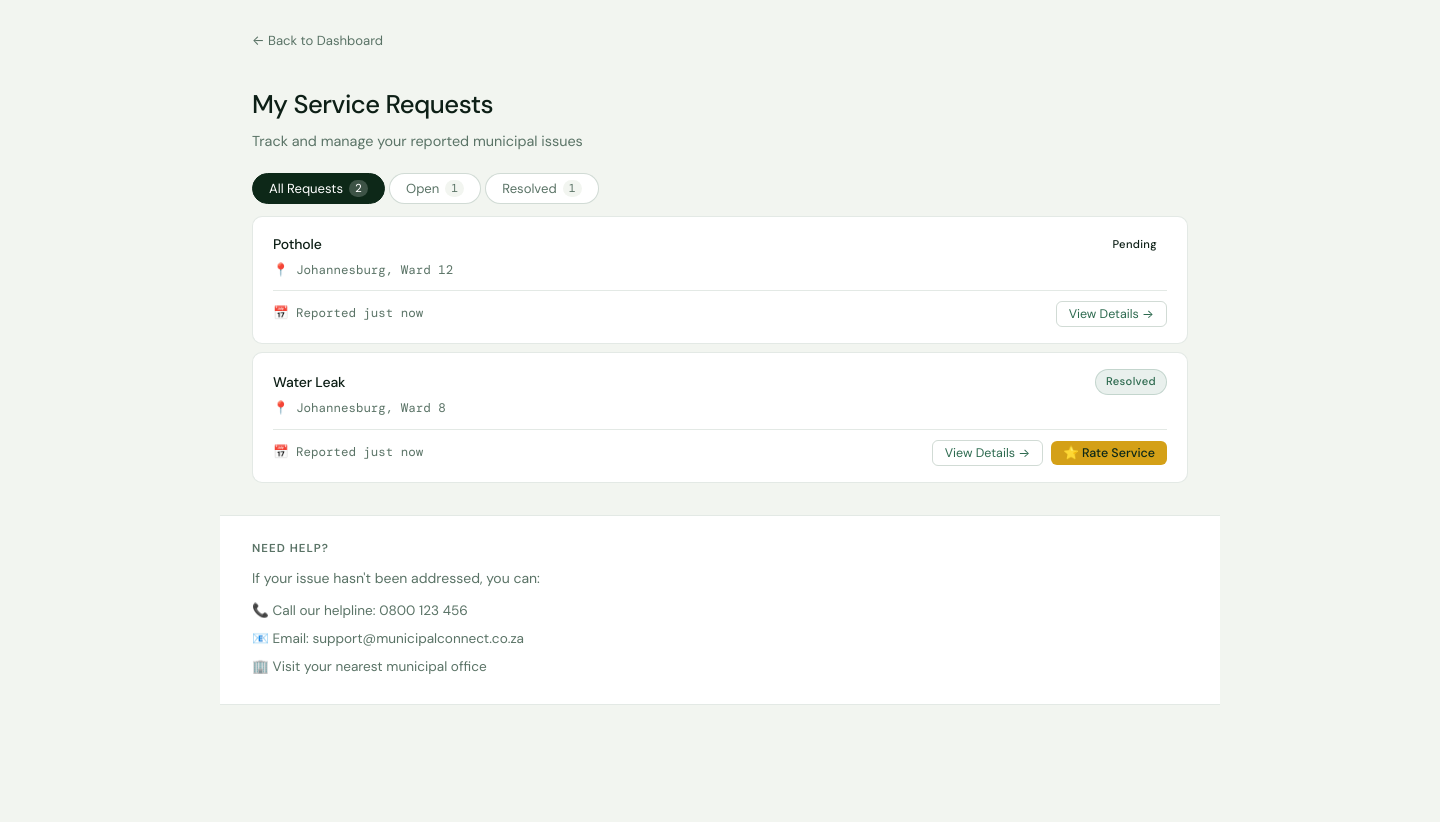
Test: opens feedback form
Click the button "⭐ Rate Service" at coordinates (1109, 453), box [1051,441,1167,465]
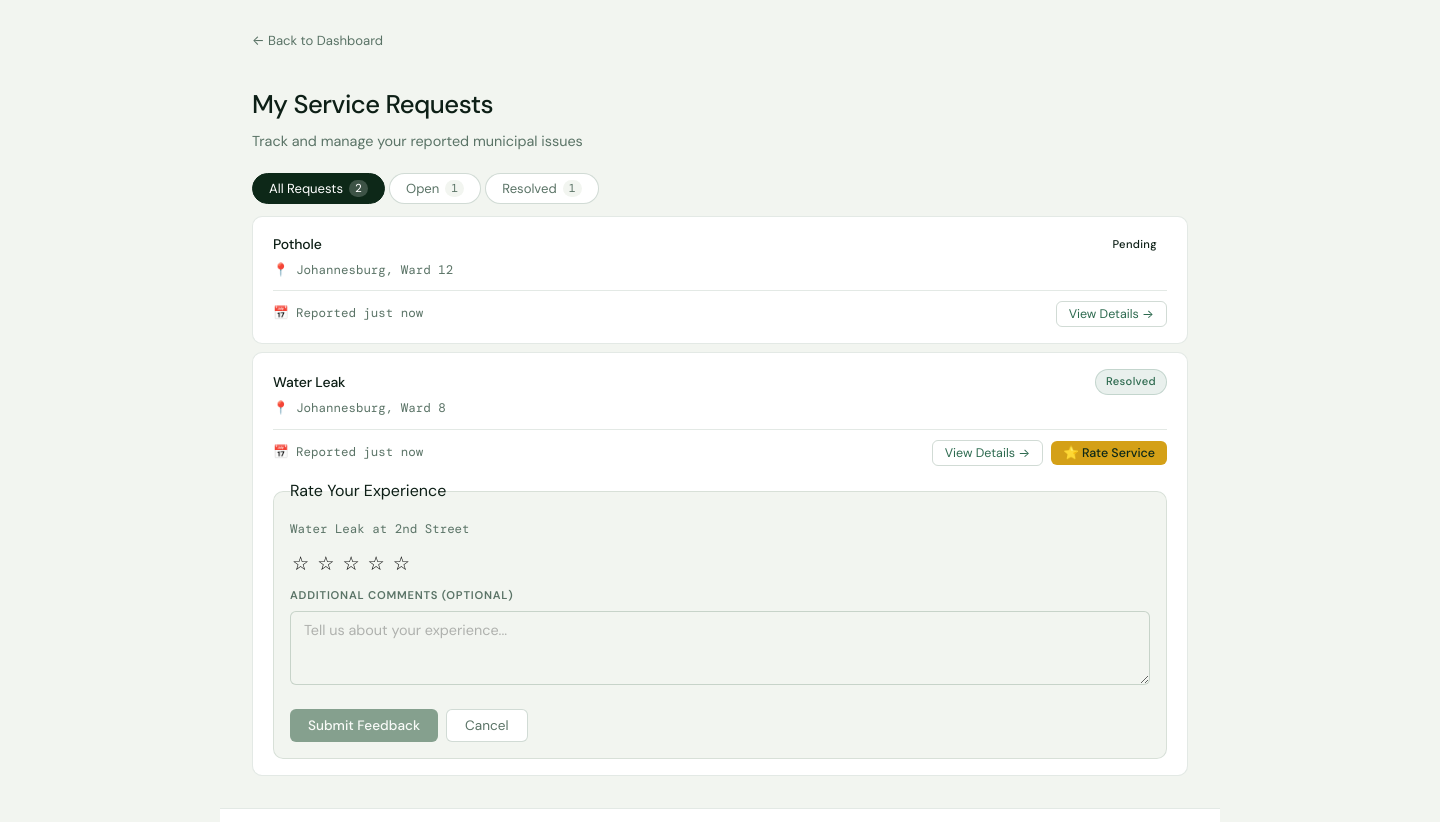
Now the button "Submit Feedback" is shown, box [290,709,438,742]
